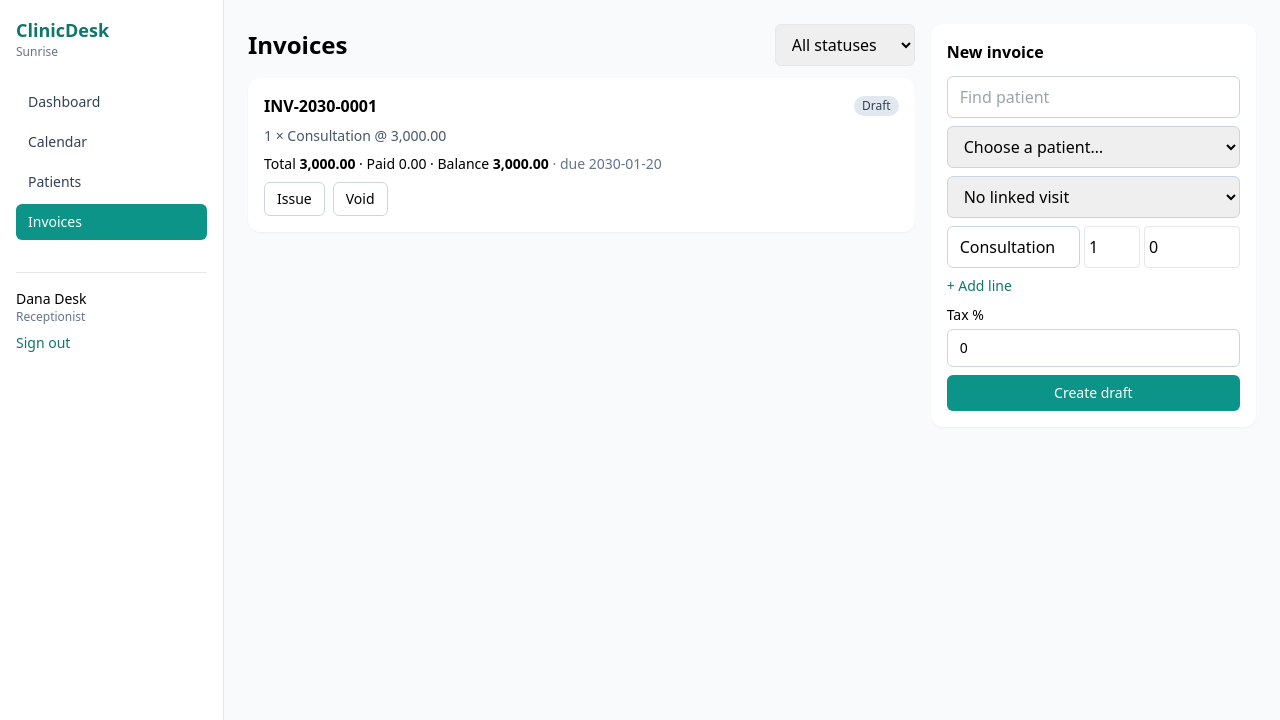
invoices › creates a draft for a completed visit, issues it and records payments
This screenshot has width=1280, height=720.
Later steps or results of the test are not shown.
Click the button "Issue": (294,199) x1=264 y1=182 x2=325 y2=216
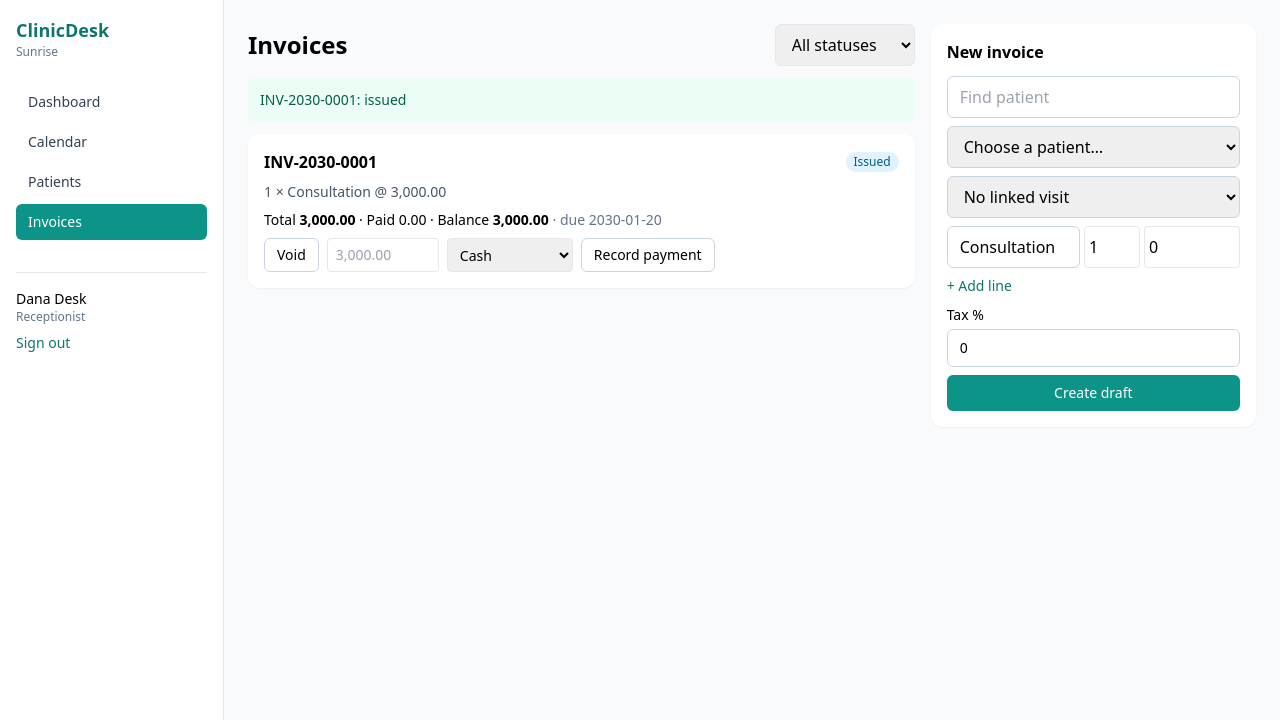
Result: the message reads "INV-2030-0001: issued" at x1=260 y1=90 x2=406 y2=109
In the number field named "Payment for INV-2030-0001": (383,255) x1=327 y1=238 x2=439 y2=272, type "3000"
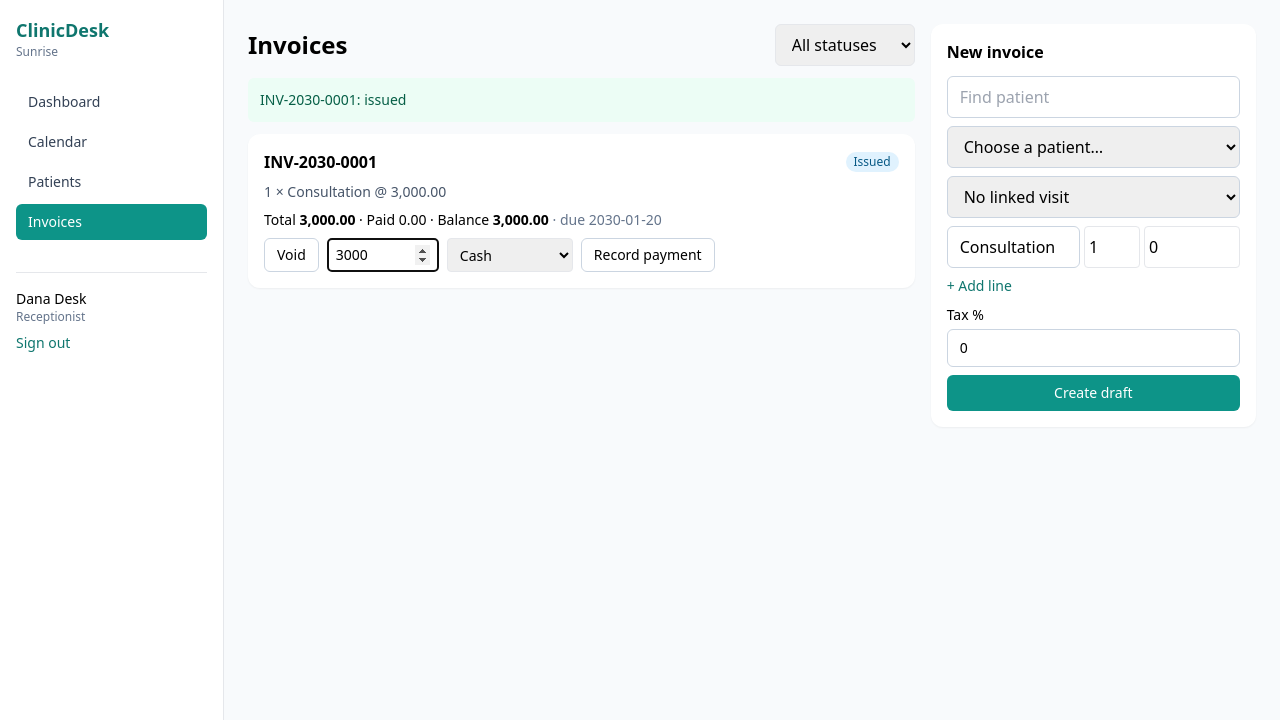
Select "Card" in the dropdown named "Method": (510,255) x1=447 y1=238 x2=573 y2=272
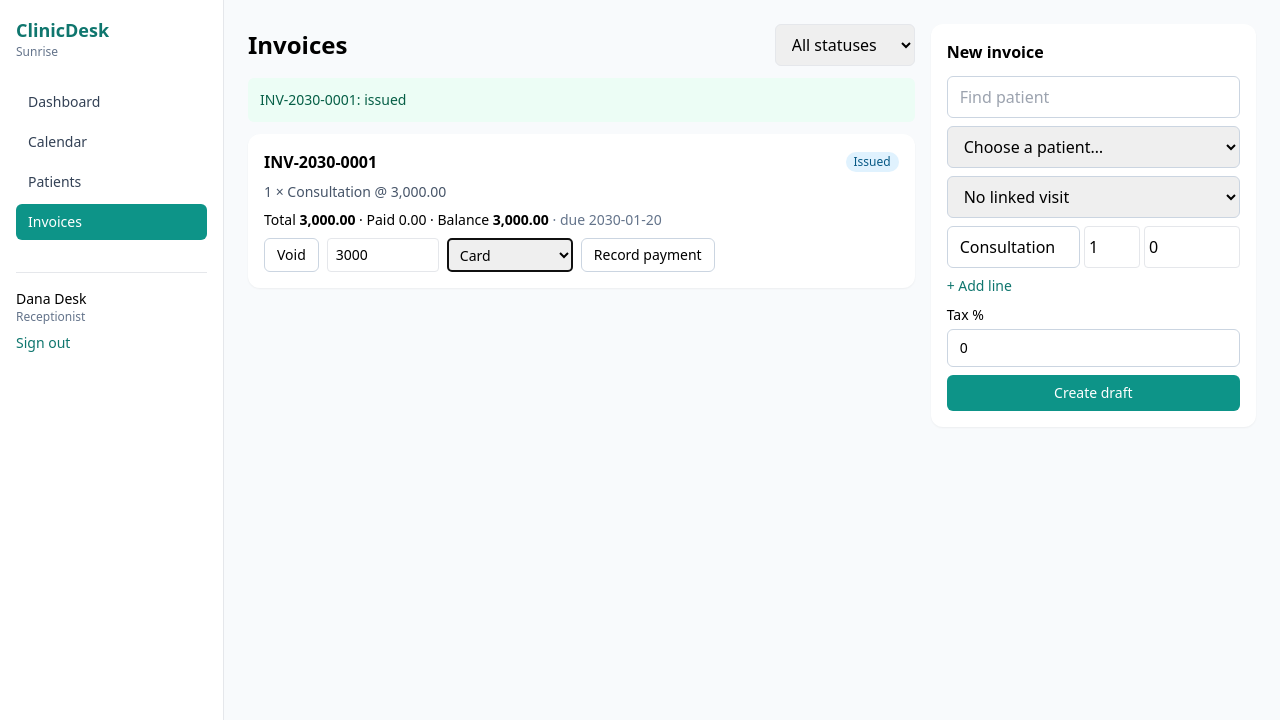
Click the button "Record payment": (648,255) x1=581 y1=238 x2=715 y2=272
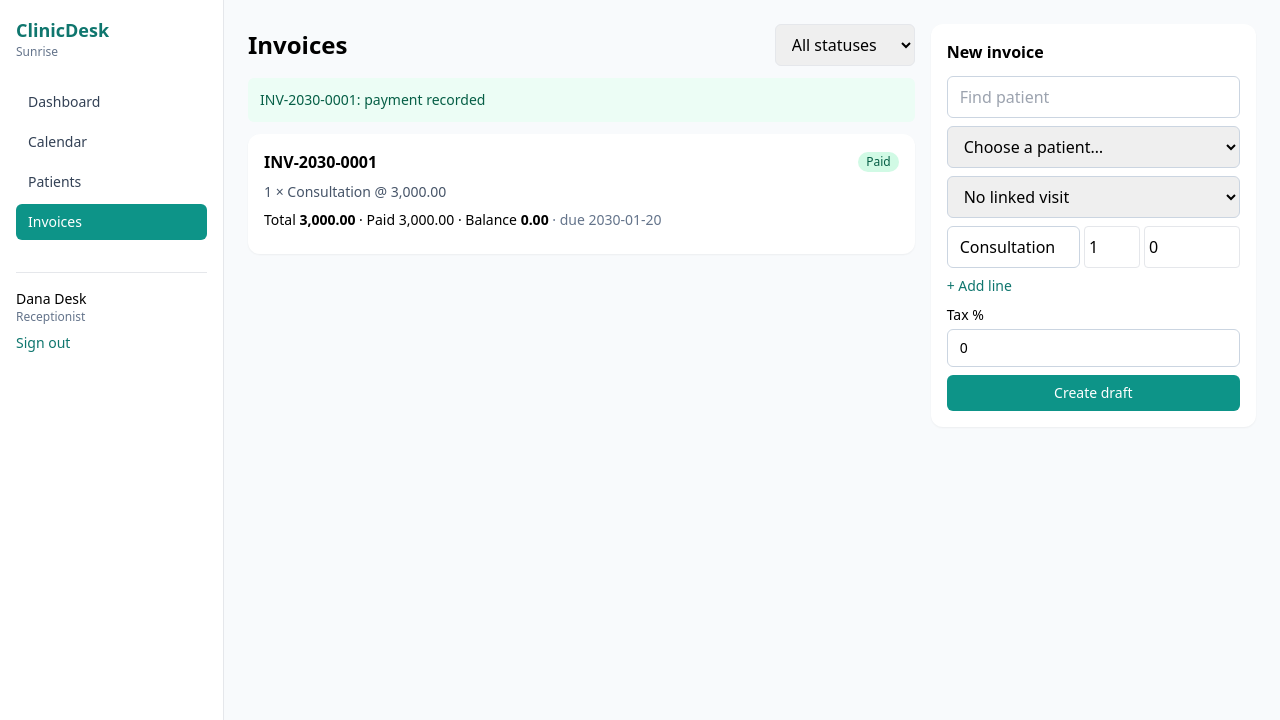
Result: the text "payment recorded" is shown at x1=260 y1=90 x2=485 y2=109
